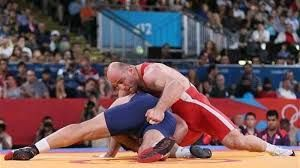10+: (1, 1, 298, 163)
down: (97, 55, 297, 160), (3, 89, 191, 163)
